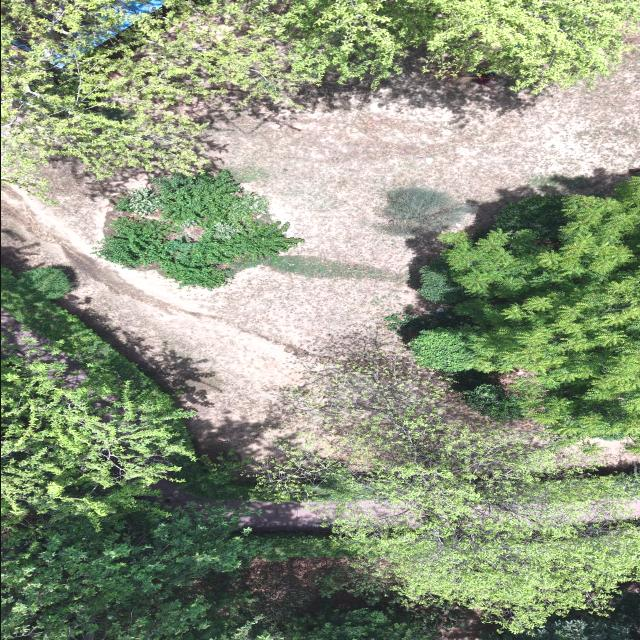DRY_AREA: (1, 53, 639, 457), (153, 480, 335, 532), (156, 481, 345, 531), (153, 480, 334, 532), (239, 558, 393, 619), (155, 481, 336, 532), (154, 481, 336, 531), (154, 481, 331, 531), (158, 482, 336, 531), (157, 481, 329, 531), (240, 558, 367, 617), (1, 309, 87, 388), (241, 558, 357, 615), (170, 499, 335, 531), (195, 501, 335, 531), (217, 501, 329, 532), (439, 608, 497, 639), (440, 609, 491, 639)
VEGETATION_TREE: (1, 268, 639, 639), (1, 270, 459, 639), (1, 270, 347, 639), (1, 0, 639, 191), (260, 357, 639, 631), (1, 271, 253, 639), (1, 269, 264, 521), (1, 505, 460, 639), (388, 180, 639, 423), (409, 178, 639, 441), (1, 0, 300, 190), (1, 270, 194, 522), (1, 501, 344, 639), (205, 0, 639, 96), (240, 0, 639, 90), (1, 345, 194, 523), (1, 503, 252, 639), (244, 560, 639, 639), (94, 171, 302, 289), (1, 269, 174, 410), (395, 0, 639, 91), (217, 0, 409, 97), (239, 559, 459, 639), (117, 172, 265, 227), (480, 593, 639, 639), (254, 601, 442, 639), (171, 452, 270, 502), (381, 188, 472, 236), (231, 256, 398, 281), (448, 371, 522, 421), (495, 196, 565, 237), (535, 614, 633, 639), (463, 384, 522, 420), (419, 259, 464, 302), (21, 267, 73, 299)
